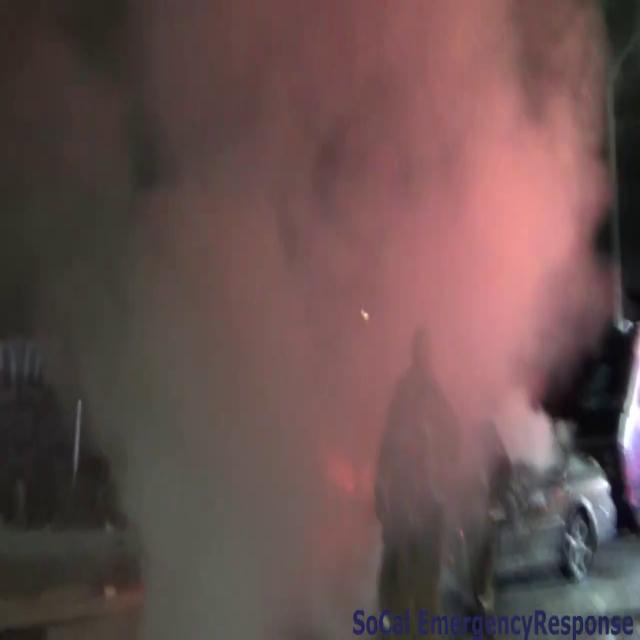Smoke: (0, 1, 618, 616)
